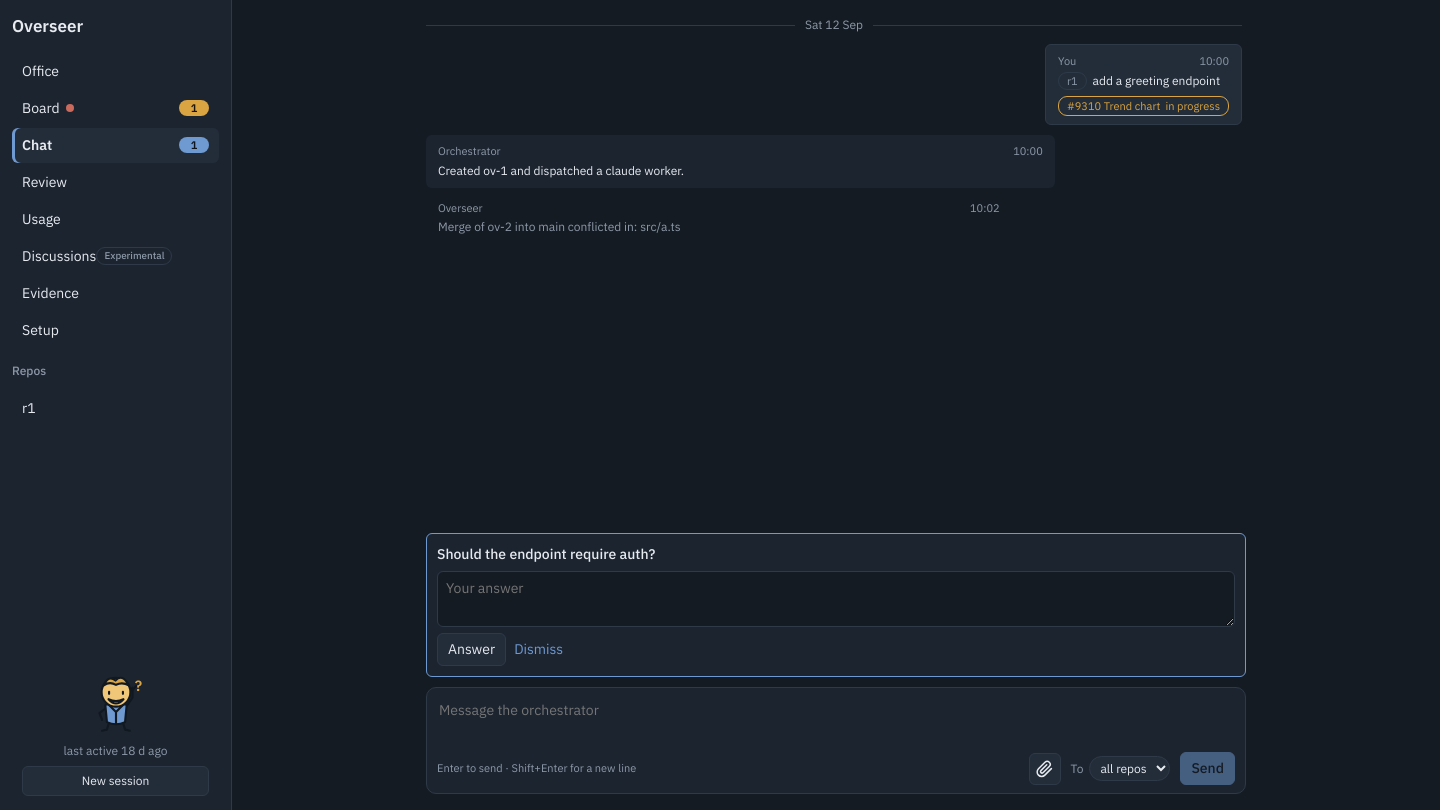
Scenario: App › opens a open Chat outcome in place
The width and height of the screenshot is (1440, 810).
Click the button with aria-label "#9310 Trend chart: in progress" at (1143, 106), box x1=1058 y1=96 x2=1229 y2=116
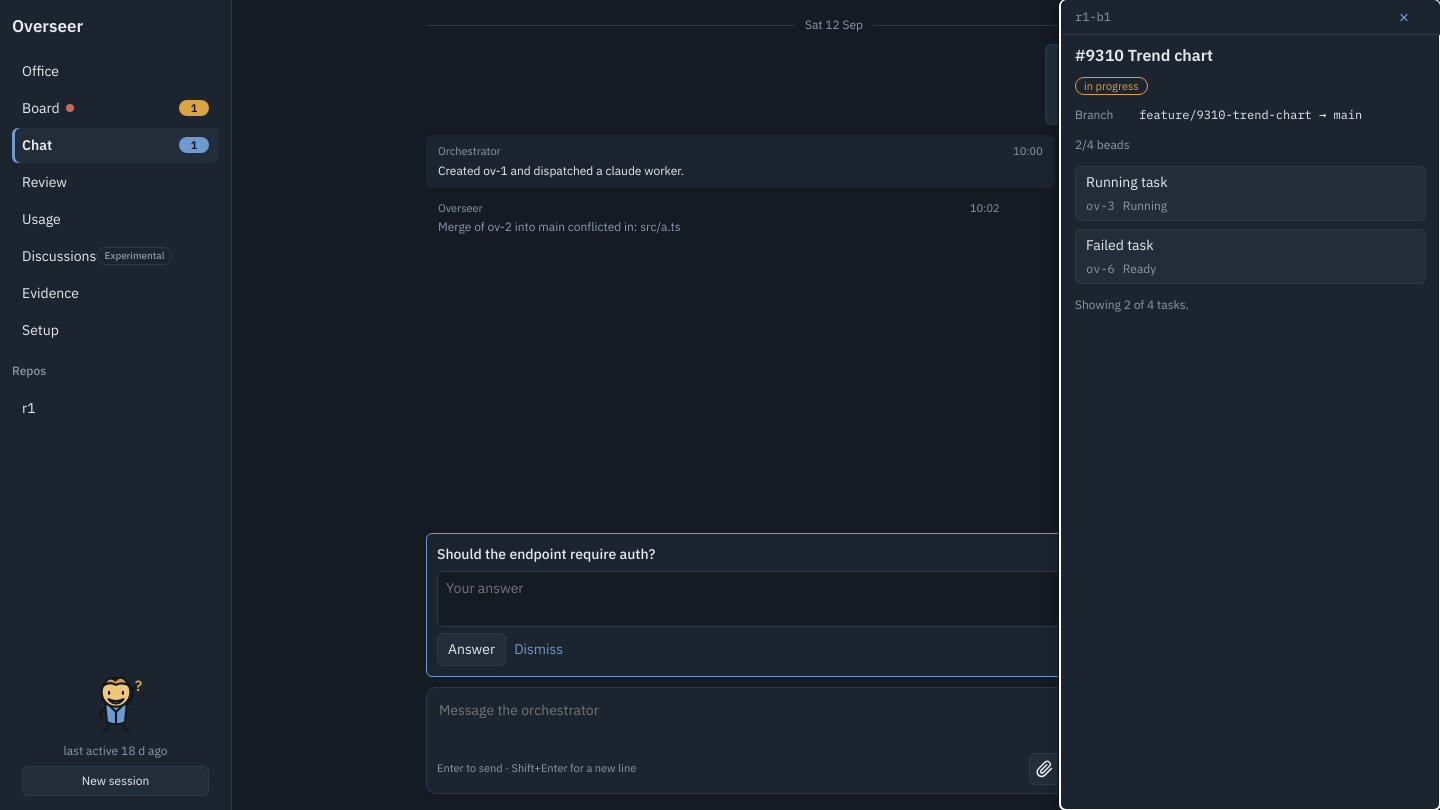
Now the element named "Batch details for r1-b1" is shown, box x1=1060 y1=0 x2=1439 y2=809
